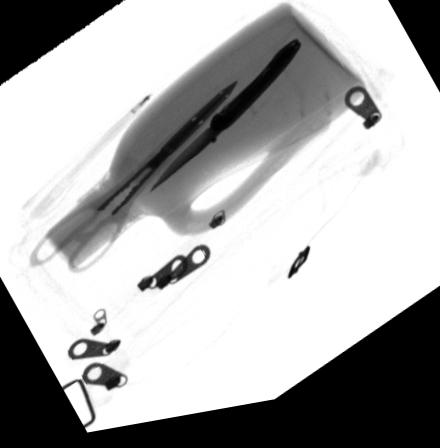Knife: (148, 49, 303, 200)
Scissors: (29, 90, 237, 279)
